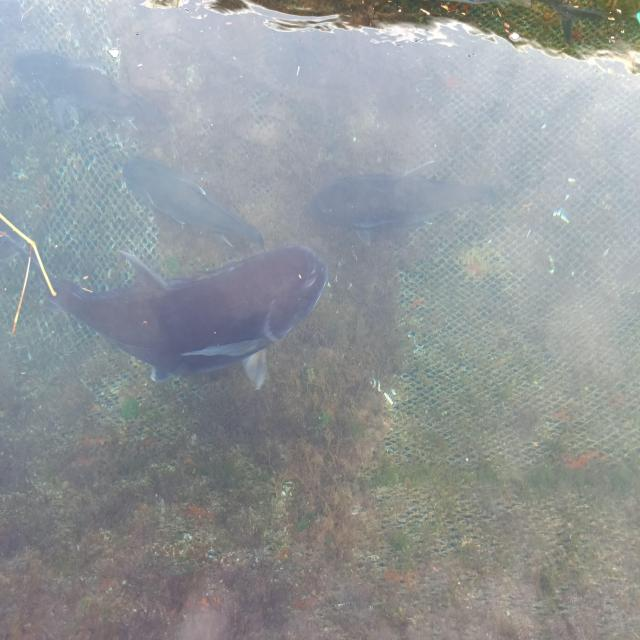ikan: (34, 221, 328, 388)
